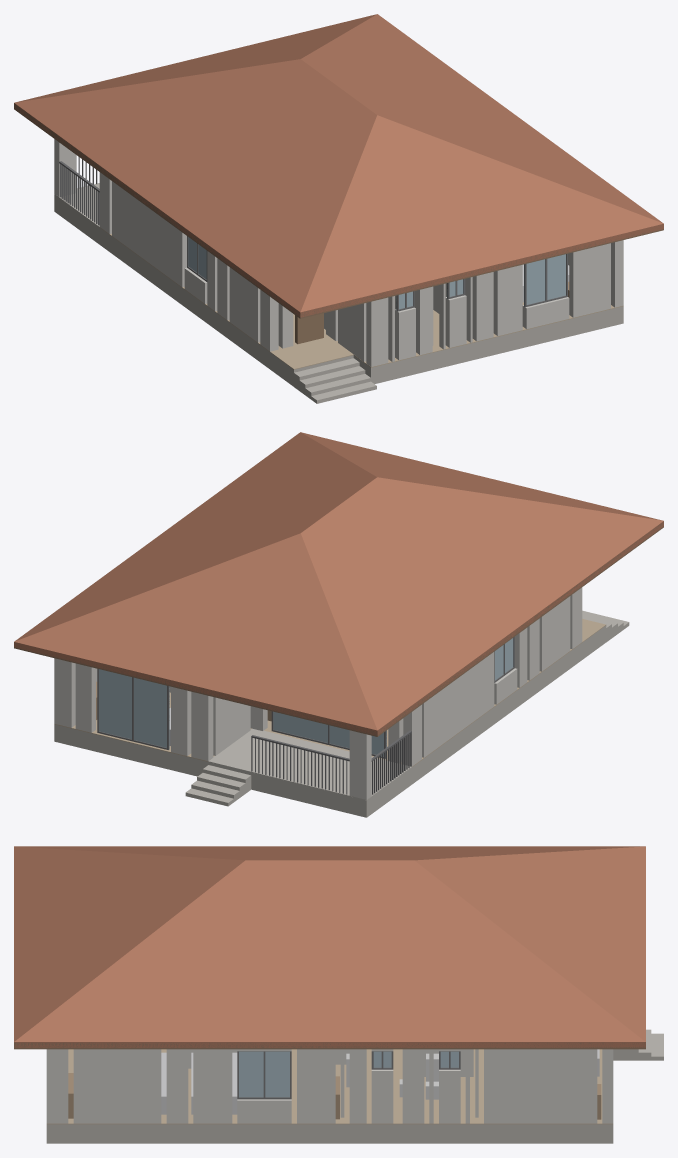
Rendered from house.glb.
3 views of the same model, one above another, from view 1: azimuth 30°, elevation 25°; view 2: azimuth 150°, elevation 25°; view 3: azimuth 270°, elevation 25° (orthographic). The views are drawn at different scales.
Visible parts, largest first — view 1: roof, wall, platform, column, fascia, glass, floor, stairs, railing, frame, door; view 2: roof, platform, wall, column, glass, railing, fascia, stairs, floor, frame; view 3: roof, wall, platform, column, floor, glass, fascia, bed, frame, stairs, sanitary, wood.
Boxes of the visible parts, left/top/right/bottom form: roof: left=14, top=14, right=663, bottom=317; wall: left=112, top=181, right=610, bottom=361; platform: left=54, top=183, right=623, bottom=386; column: left=54, top=139, right=623, bottom=366; fascia: left=14, top=103, right=663, bottom=318; glass: left=188, top=237, right=565, bottom=310; floor: left=99, top=227, right=623, bottom=369; stairs: left=294, top=358, right=376, bottom=403; railing: left=59, top=157, right=99, bottom=225; frame: left=187, top=236, right=567, bottom=311; door: left=295, top=313, right=323, bottom=344; roof: left=14, top=432, right=663, bottom=735; platform: left=54, top=625, right=606, bottom=817; wall: left=75, top=596, right=570, bottom=762; column: left=54, top=587, right=582, bottom=799; glass: left=99, top=638, right=513, bottom=756; railing: left=251, top=730, right=411, bottom=794; fascia: left=14, top=521, right=663, bottom=736; stairs: left=185, top=610, right=629, bottom=806; floor: left=54, top=619, right=605, bottom=766; frame: left=97, top=637, right=514, bottom=758; roof: left=14, top=846, right=645, bottom=1047; wall: left=73, top=1049, right=597, bottom=1123; platform: left=46, top=1124, right=613, bottom=1143; column: left=46, top=1049, right=613, bottom=1123; floor: left=47, top=1049, right=612, bottom=1124; glass: left=239, top=1051, right=458, bottom=1097; fascia: left=14, top=1042, right=645, bottom=1049; bed: left=161, top=1049, right=599, bottom=1114; frame: left=237, top=1051, right=460, bottom=1099; stairs: left=613, top=1029, right=663, bottom=1060; sanitary: left=346, top=1053, right=438, bottom=1099; wood: left=68, top=1073, right=601, bottom=1119.
Size of what is drawn, in the model's own units: 12.75 by 6.05 by 17.9.
